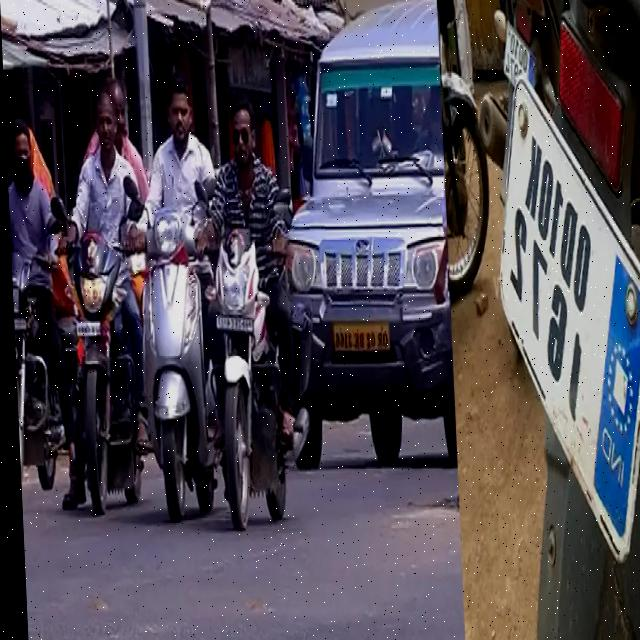plate: (485, 63, 640, 565), (498, 12, 540, 97), (327, 316, 390, 355), (211, 312, 253, 334), (73, 318, 103, 339), (11, 315, 30, 333)
